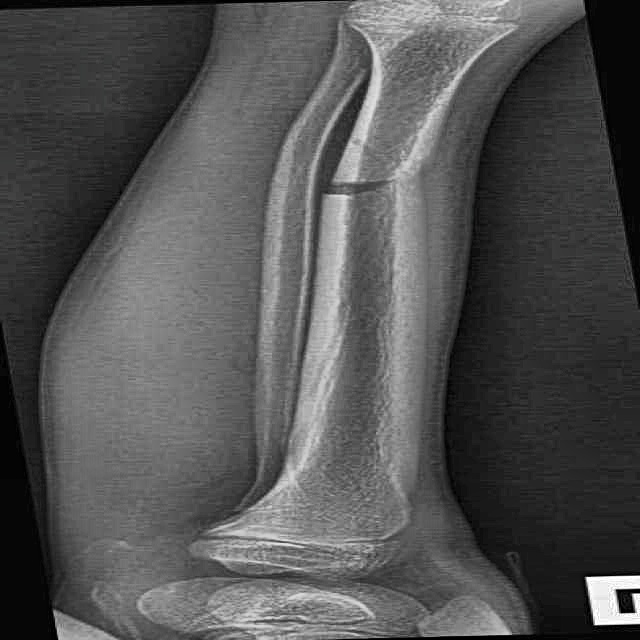Greenstick: (283, 151, 422, 229)
